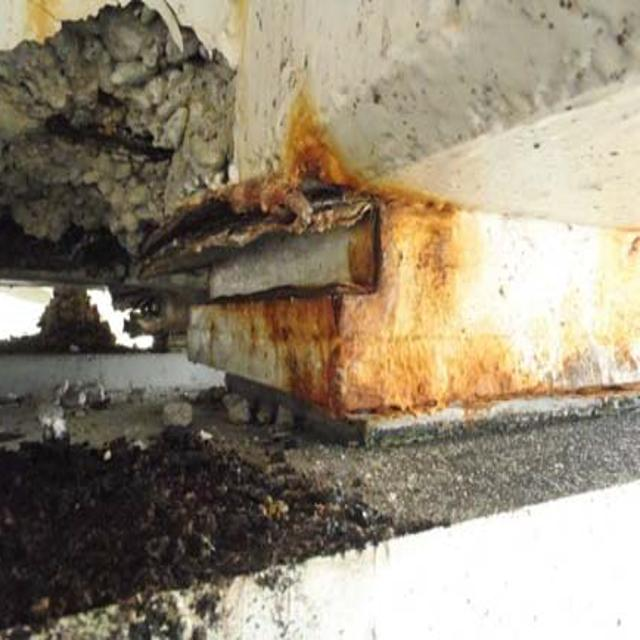corrosion: (257, 120, 504, 421)
spalling: (7, 23, 233, 266)
